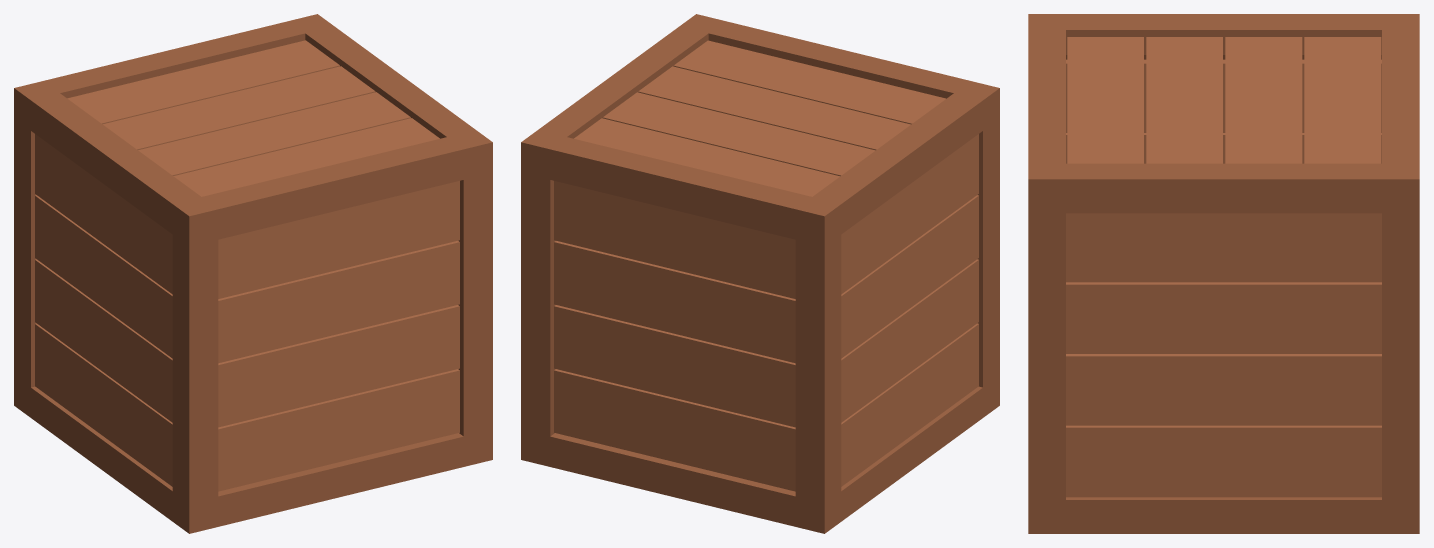
The model's file is wooden_crate.obj.
3 renders of one model, left to right at view 1: azimuth 30°, elevation 25°; view 2: azimuth 150°, elevation 25°; view 3: azimuth 270°, elevation 25°, orthographic. The views are drawn at different scales.
Visible parts, largest first — view 1: wooden_crate; view 2: wooden_crate; view 3: wooden_crate.
Boxes of the visible parts, x1,y1,x2,y2 form: wooden_crate: [14, 14, 492, 533]; wooden_crate: [521, 14, 999, 533]; wooden_crate: [1028, 14, 1419, 533].
Bounding box in the file's own units: 0.3917 × 0.3917 × 0.3917.
